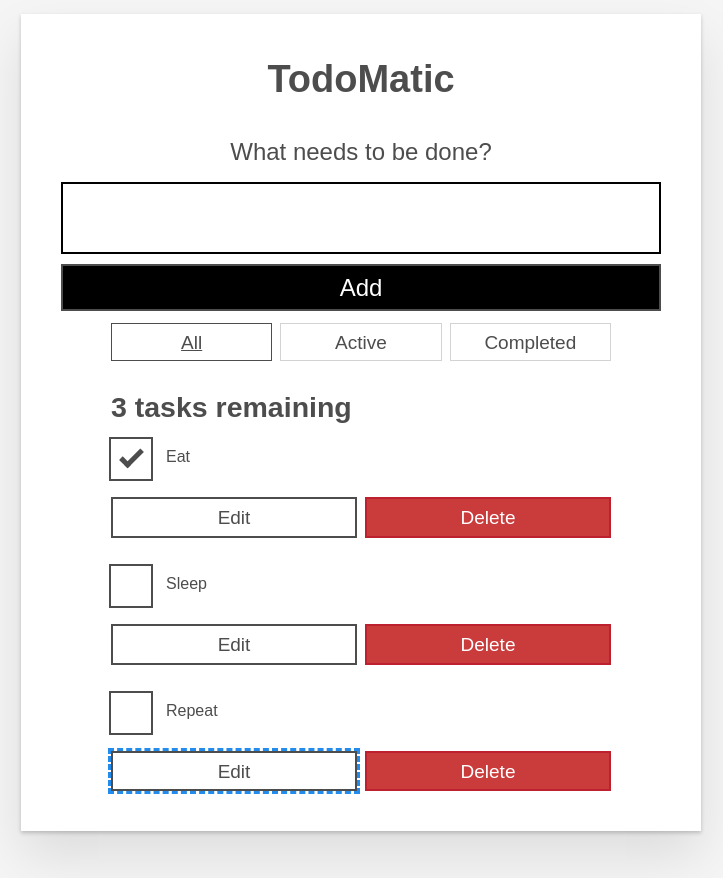
Test case: Functionality of App › Should filter todo when filters pressed
Click the button named "show all tasks" at (192, 342), box [111,323,272,361]
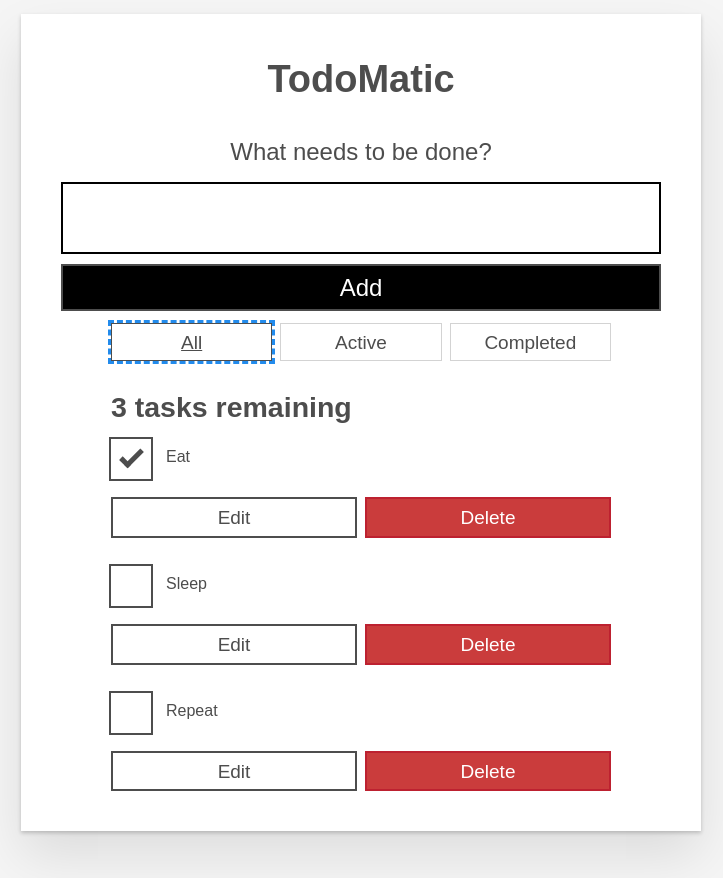
Expected: the number of checkboxes is 3, [151,439,205,472]; [151,566,222,599]; [151,693,233,726]
Click the button named "show active tasks" at (361, 342), box [280,323,442,361]
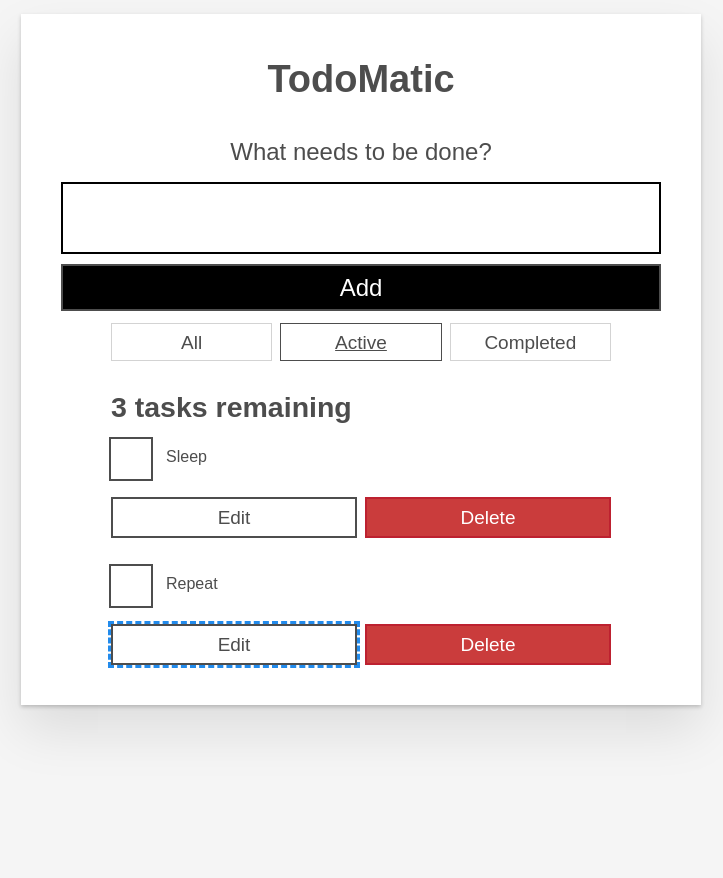
Expected: the number of checkboxes is 2, [151,439,222,472]; [151,566,233,599]
Click the button named "show completed tasks" at (530, 342), box [450,323,611,361]
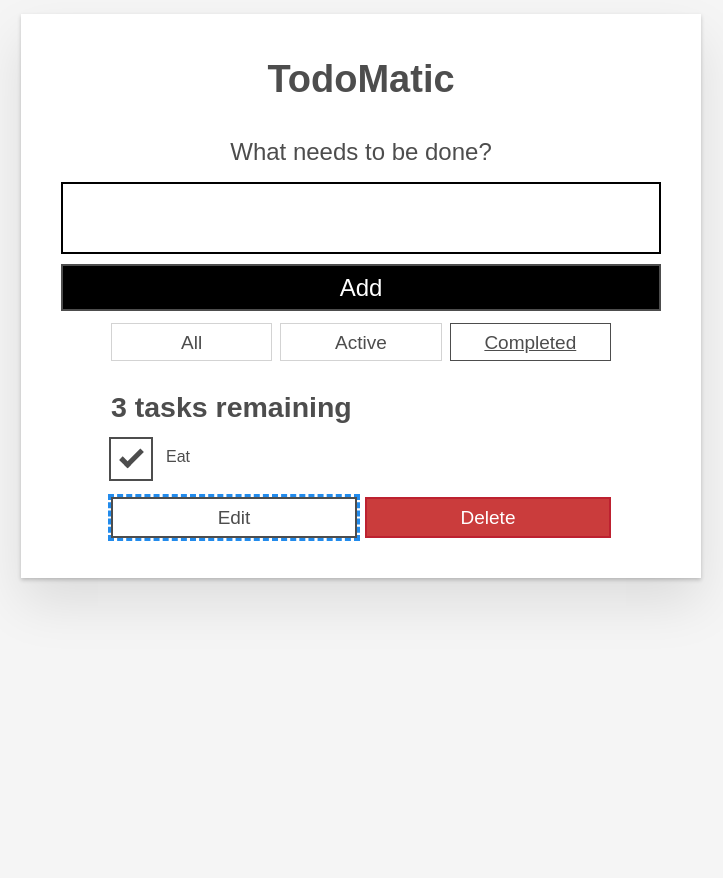
Expected: the number of checkboxes is 1, [151,439,205,472]
